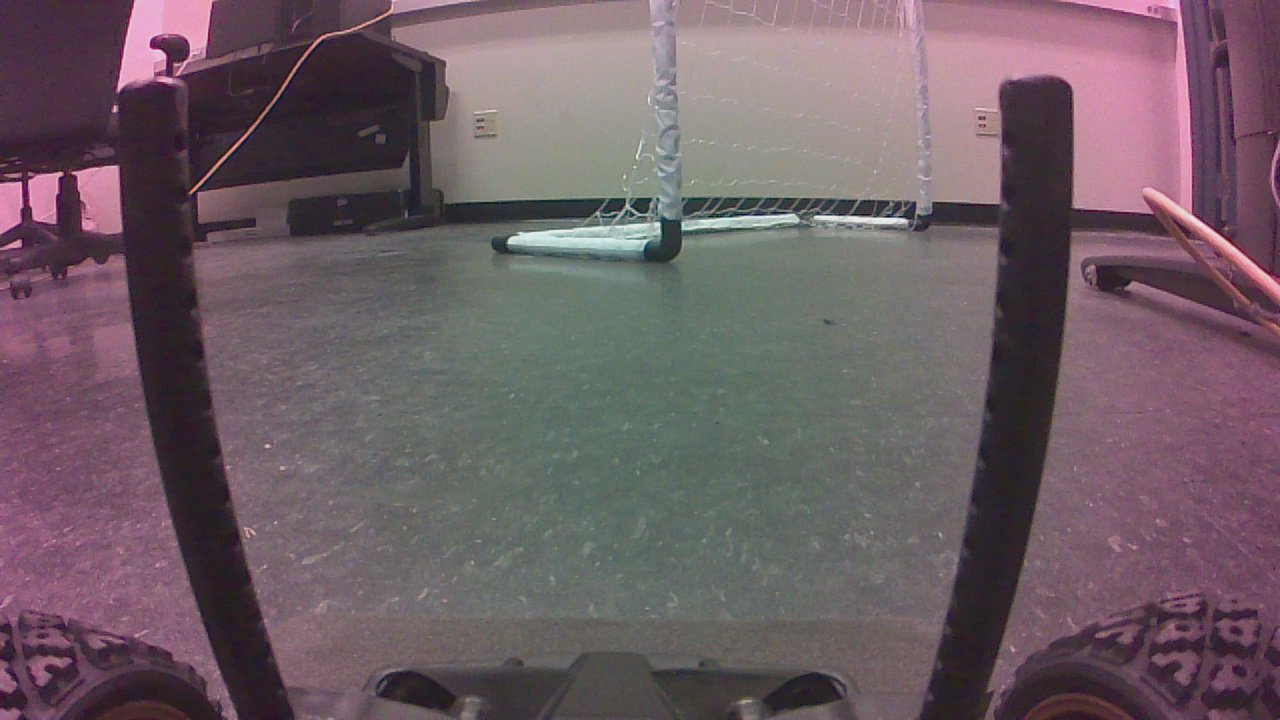goal: (493, 5, 936, 268)
